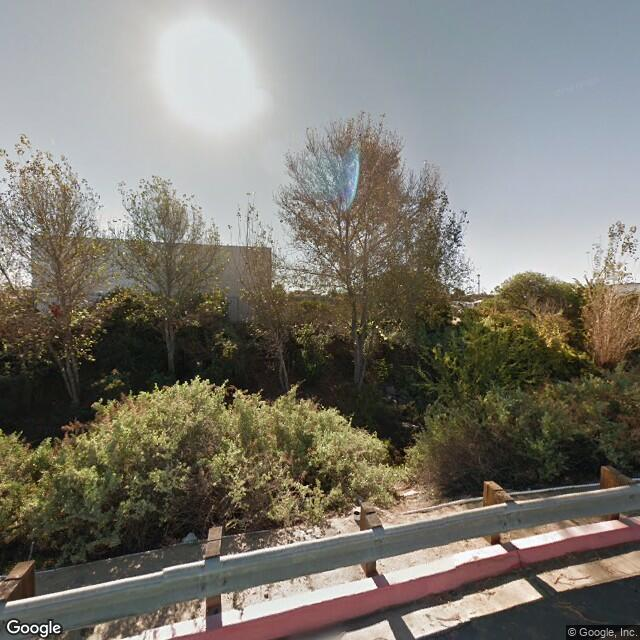litter: (182, 531, 197, 546)
